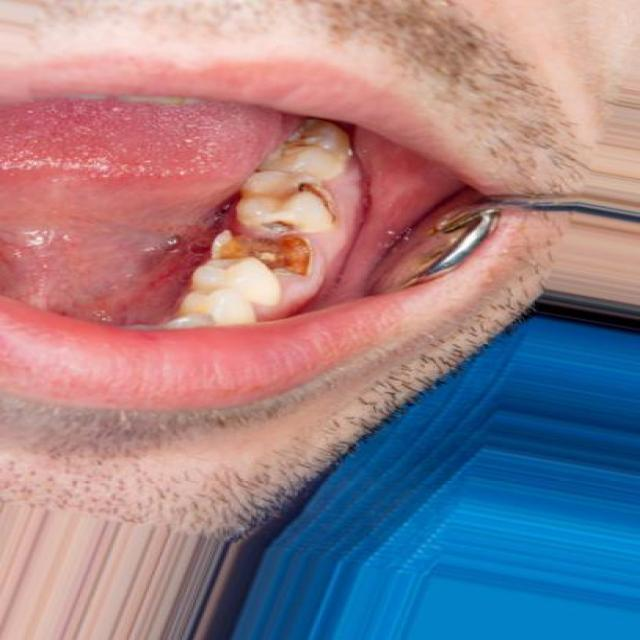caries: (208, 212, 326, 278), (273, 171, 350, 224)
